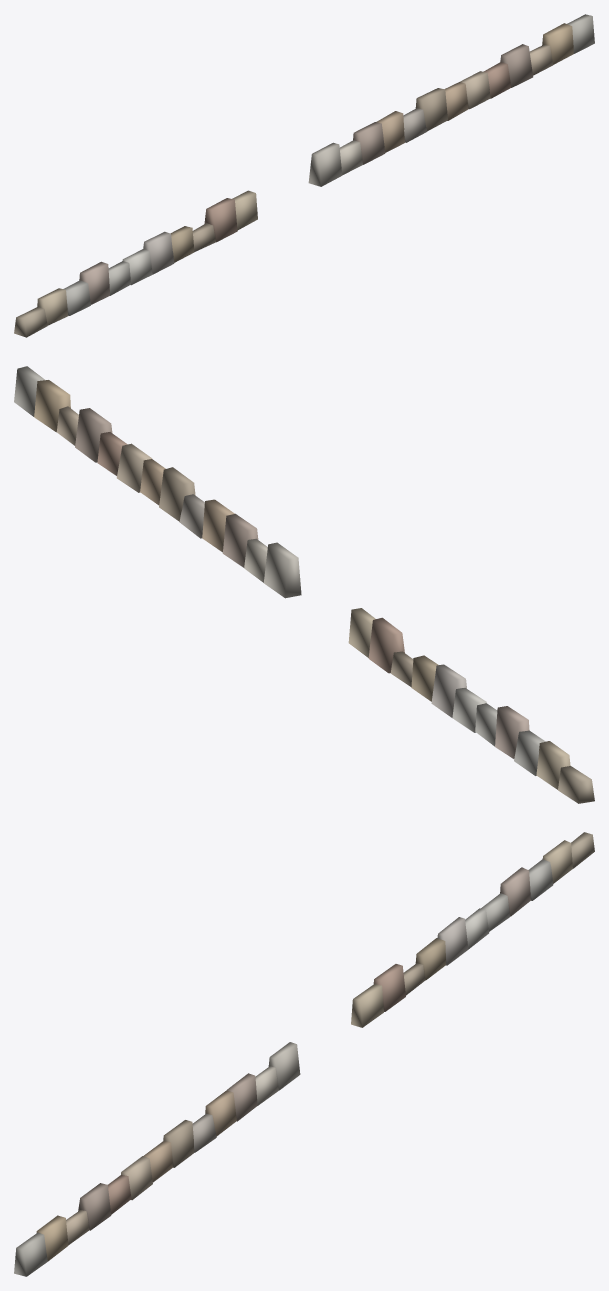
Rendered from farm_-33_-27_far.glb.
3 views of the same model, one above another, from view 1: azimuth 90°, elevation 25°; view 2: azimuth 150°, elevation 25°; view 3: azimuth 270°, elevation 25° (orthographic). The views are drawn at different scales.
Parts seen in each view (by area): view 1: geometry_0; view 2: geometry_0; view 3: geometry_0.
Part boxes in pixels (x1,y1,x2,y2): geometry_0: (14,14,594,337); geometry_0: (14,366,594,803); geometry_0: (14,832,594,1276).
Bounding box in the file's own units: 36.21 × 4.12 × 24.5.
